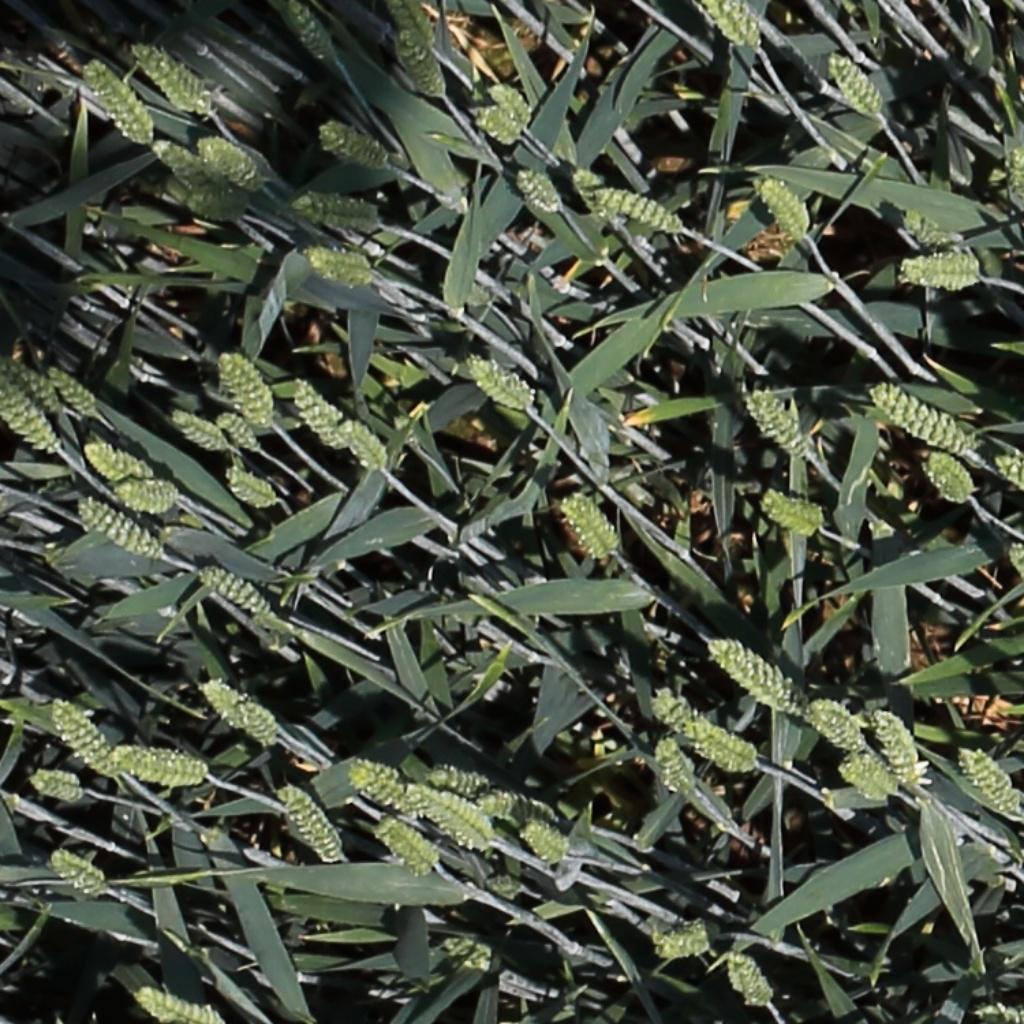0-0: (639, 677, 758, 771), (703, 635, 808, 716), (44, 692, 133, 785), (866, 382, 973, 456), (402, 783, 497, 857), (77, 55, 152, 148), (110, 731, 215, 794), (271, 782, 344, 868), (125, 39, 206, 114), (44, 23, 110, 108), (212, 345, 273, 434), (645, 905, 736, 963), (346, 753, 421, 821), (75, 498, 165, 554), (746, 385, 812, 461), (871, 705, 928, 792), (147, 136, 229, 195), (0, 375, 61, 454), (955, 748, 1021, 820), (587, 184, 684, 232), (286, 376, 348, 451), (480, 783, 566, 837), (750, 169, 811, 244), (193, 566, 273, 623), (430, 760, 504, 820), (558, 490, 617, 565), (390, 24, 446, 103), (823, 49, 884, 120), (385, 0, 448, 68), (467, 356, 540, 414), (703, 0, 773, 59), (722, 946, 781, 1014), (370, 817, 435, 877), (281, 0, 337, 69), (572, 162, 627, 231), (110, 468, 182, 519), (901, 245, 979, 292), (1, 356, 62, 415), (196, 671, 255, 731), (196, 133, 260, 188), (300, 244, 379, 288), (132, 988, 228, 1024), (653, 730, 700, 803), (805, 701, 866, 756), (316, 120, 386, 166), (686, 720, 759, 763), (40, 363, 98, 417), (921, 447, 974, 506), (80, 441, 150, 481), (517, 819, 577, 865), (180, 184, 249, 224), (338, 419, 387, 475), (238, 703, 297, 749), (46, 853, 106, 898), (512, 163, 562, 214), (222, 469, 289, 507), (838, 759, 898, 801), (899, 206, 959, 248), (757, 494, 823, 531), (166, 408, 225, 449), (210, 408, 260, 456), (484, 77, 532, 126), (290, 192, 375, 219), (993, 436, 1024, 504), (31, 763, 83, 801), (471, 105, 520, 140), (438, 937, 491, 968), (1006, 137, 1024, 214), (1008, 541, 1024, 597)
